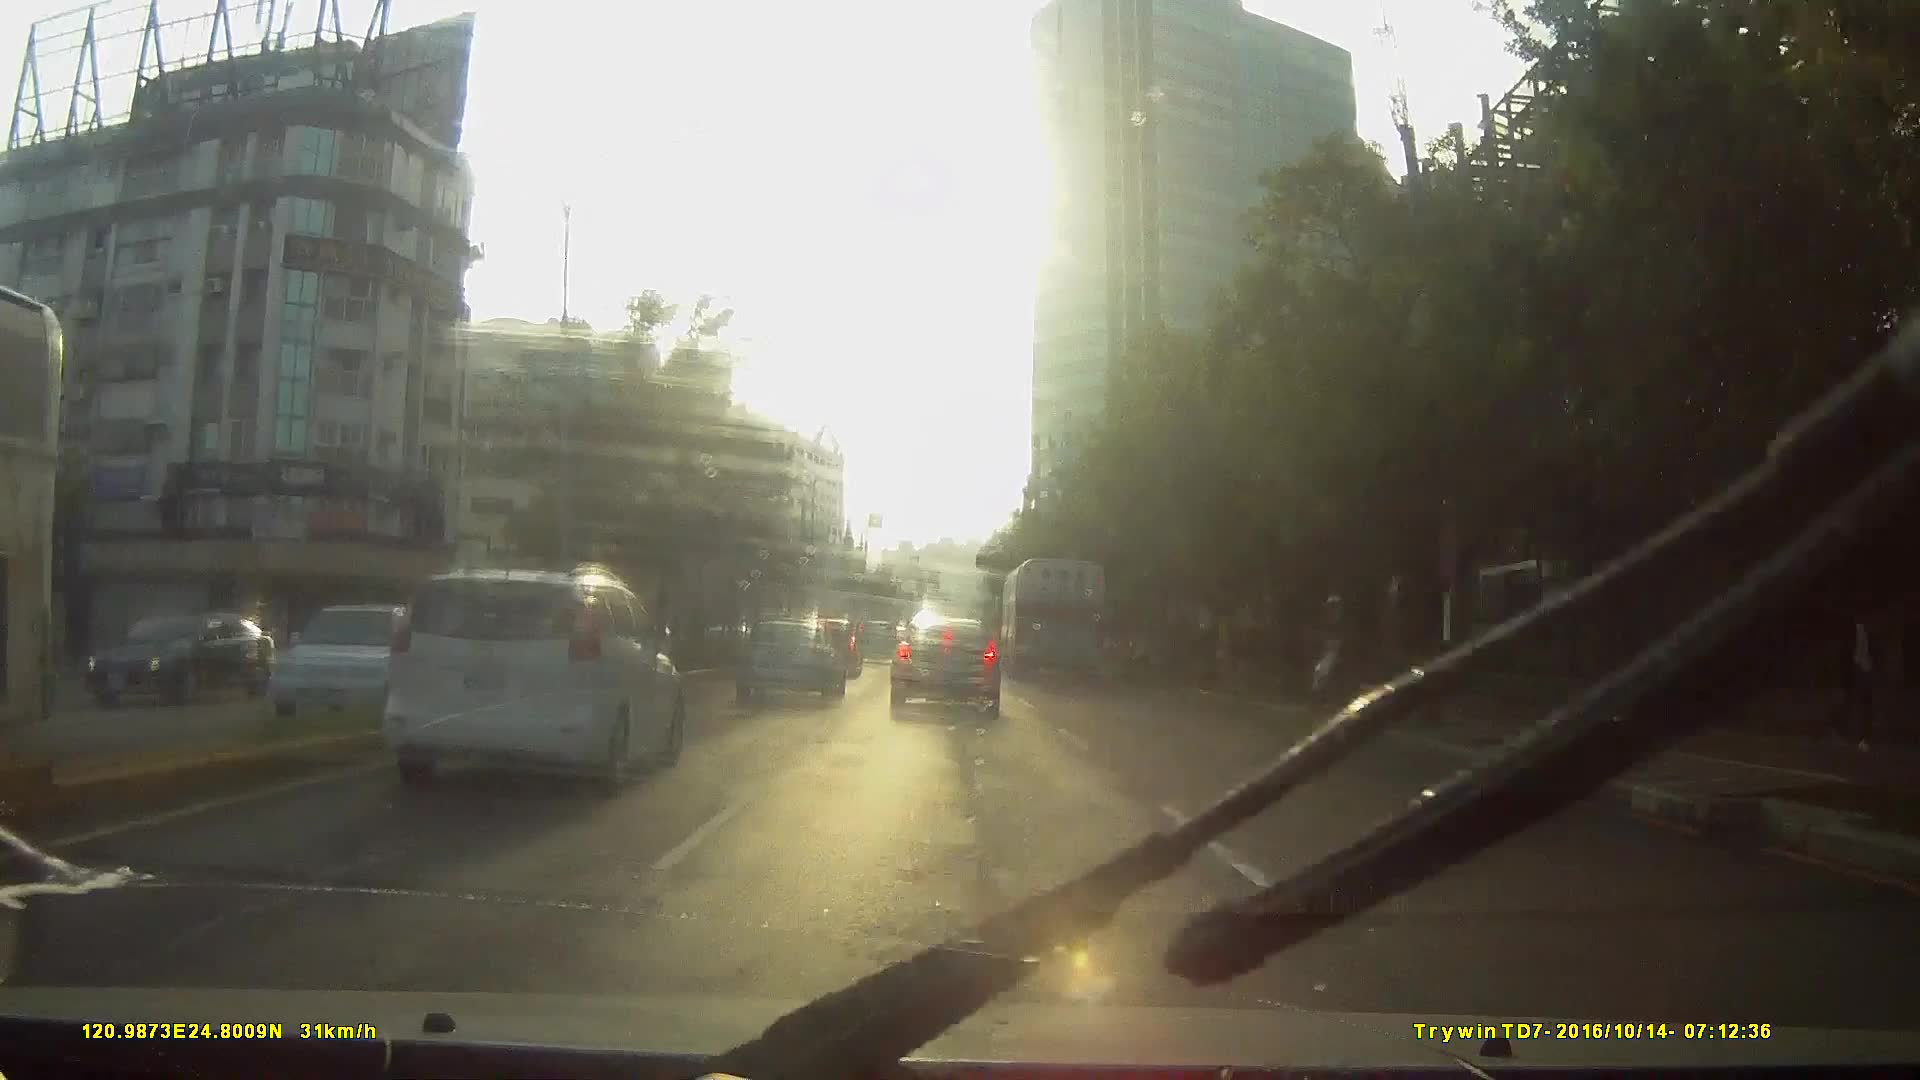pedestrian: (1814, 587, 1905, 759)
vehicle: (250, 556, 684, 868), (378, 559, 681, 787), (252, 596, 459, 732), (76, 610, 273, 708), (1000, 552, 1108, 682), (885, 610, 1001, 716), (728, 612, 840, 698), (852, 615, 901, 664)
